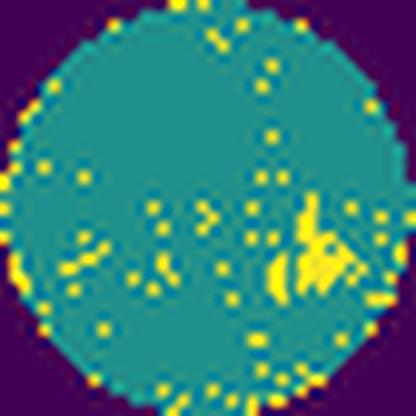Loc: (293, 188, 370, 298), (265, 246, 292, 306)
